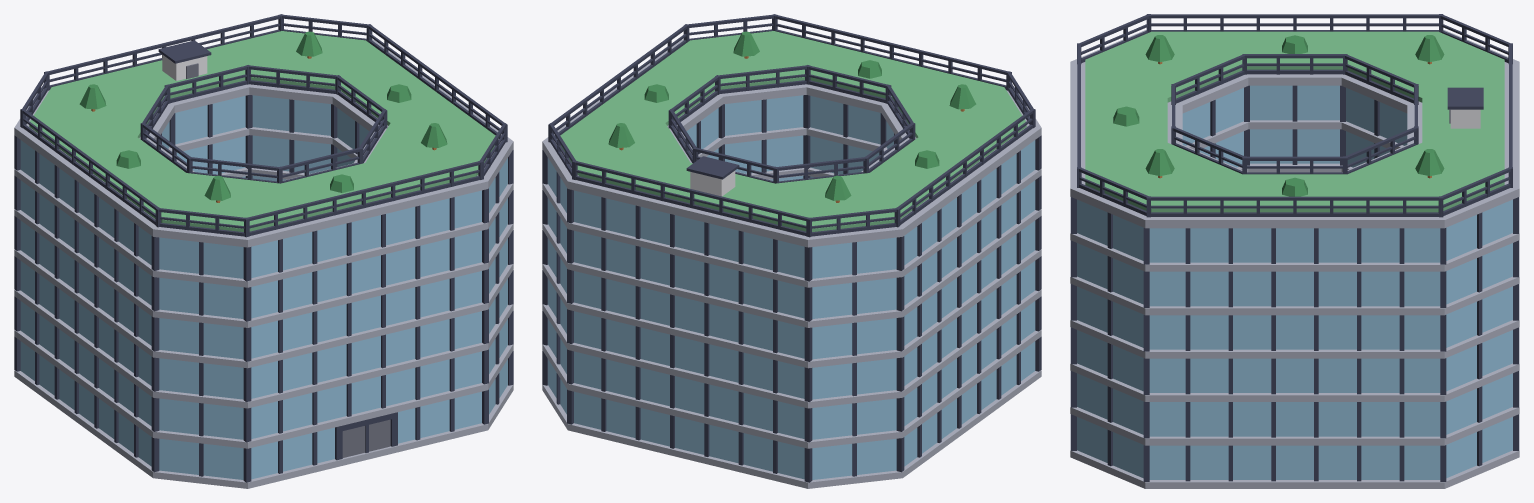
The model's file is office-octagon-3x3-t7-tone-a.glb.
3 renders of one model, left to right at view 1: azimuth 30°, elevation 25°; view 2: azimuth 150°, elevation 25°; view 3: azimuth 270°, elevation 25°, orthographic. The views are drawn at different scales.
Visible parts, largest first — view 1: office-octagon-3x3-t7-tone-a; view 2: office-octagon-3x3-t7-tone-a; view 3: office-octagon-3x3-t7-tone-a.
Part boxes in pixels (box(x1,y1,x2,y2)): office-octagon-3x3-t7-tone-a: box(14, 14, 513, 488); office-octagon-3x3-t7-tone-a: box(542, 14, 1041, 488); office-octagon-3x3-t7-tone-a: box(1070, 14, 1519, 488).
Bounding box in the file's own units: 3 × 2.21 × 3.
1 material, 1 textured.
